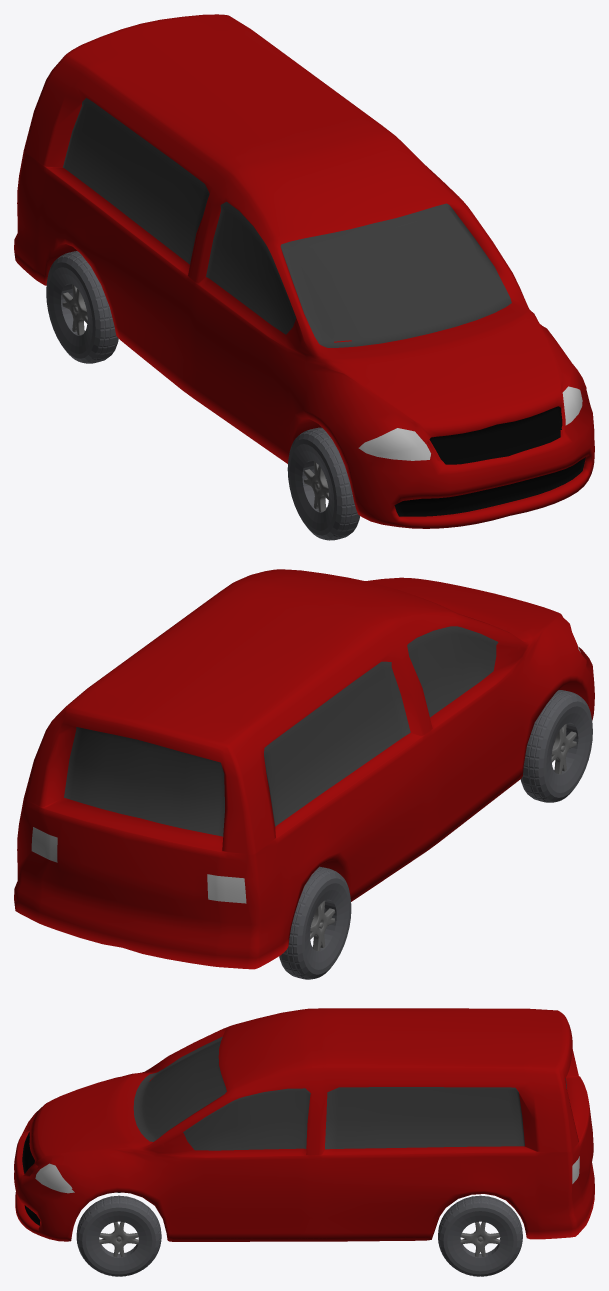
The model's file is camioneta.fbx.
3 renders of one model, top to bottom at view 1: azimuth 30°, elevation 25°; view 2: azimuth 150°, elevation 25°; view 3: azimuth 270°, elevation 25°, orthographic. The views are drawn at different scales.
Visible parts, largest first — view 1: camioneta; view 2: camioneta; view 3: camioneta.
Boxes of the visible parts, x1,y1,x2,y2 form: camioneta: (14,14,594,540); camioneta: (14,569,594,979); camioneta: (14,1008,594,1276).
Bounding box in the file's own units: 879 × 876 × 2307.
7 materials, 1 textured.
